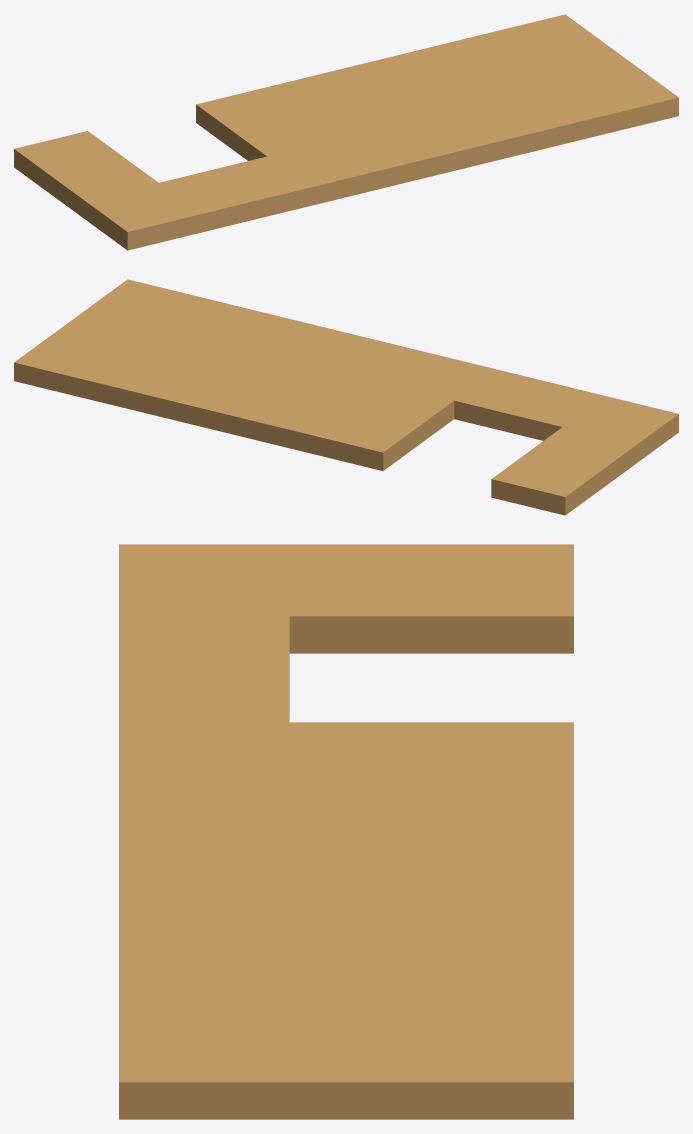
Rendered from STAIR_PORT_END.glb.
3 renders of one model, top to bottom at view 1: azimuth 30°, elevation 25°; view 2: azimuth 150°, elevation 25°; view 3: azimuth 270°, elevation 25°, orthographic. The views are drawn at different scales.
Size of the model in its own units: 5.6 by 0.18 by 2.
